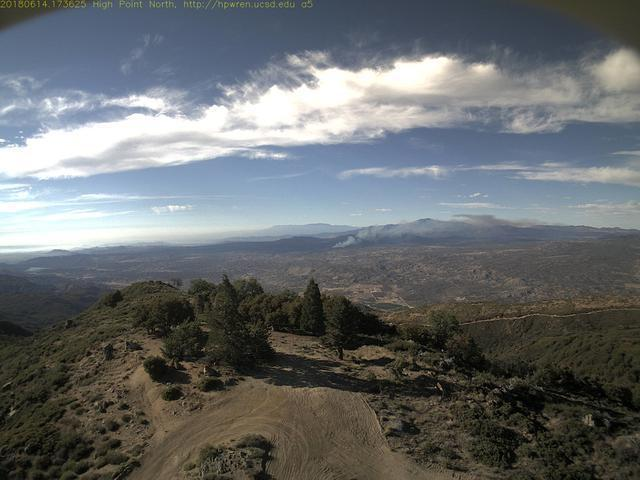Smoke: (326, 209, 503, 251)
